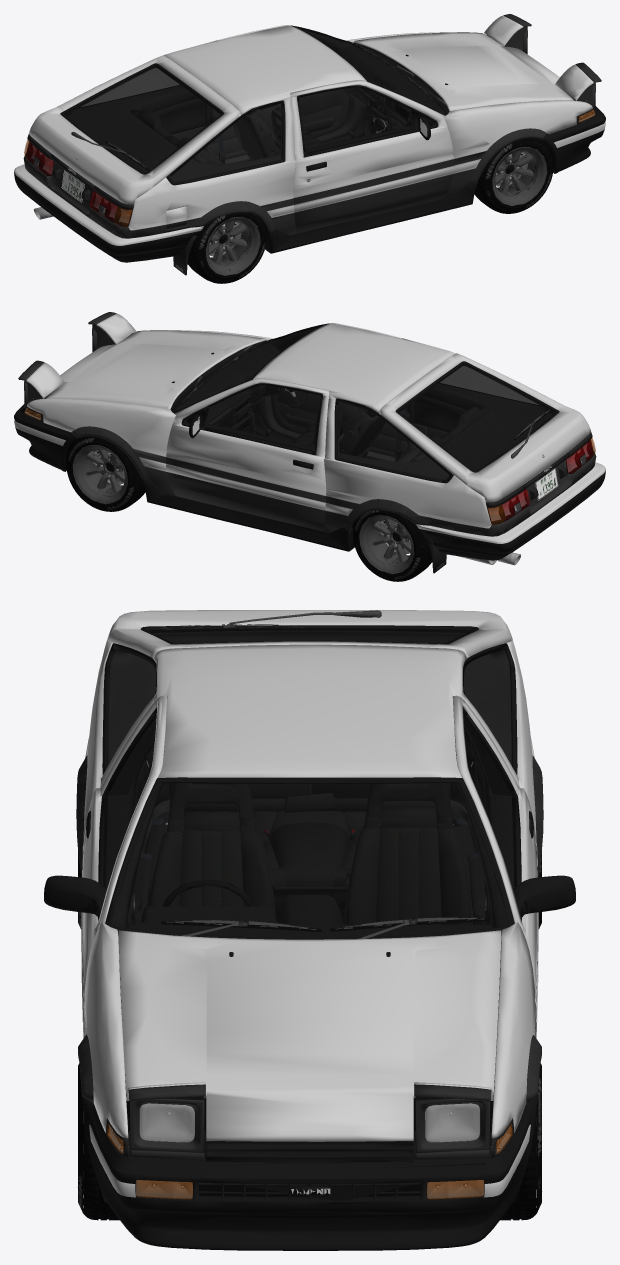
The model's file is veh-toyota-ae86.glb.
3 views of the same model, one above another, from view 1: azimuth 30°, elevation 25°; view 2: azimuth 150°, elevation 25°; view 3: azimuth 270°, elevation 25° (orthographic). The views are drawn at different scales.
Parts seen in each view (by area): view 1: CarBody_Primary_0, CarBody_Windows_0, CarBody_Trim1_0, Interior_InteriorPlastic_0, CarBody_Secondary_0, Interior_InteriorPlastic2_0, Interior_Interior_0, RR_Wheel_RimMaterial_0, FR_Wheel_RimMaterial_0, CarBody_Trim2_0, FR_Wheel_TireMaterial_0, RR_Wheel_TireMaterial_0 (+7 smaller); view 2: CarBody_Primary_0, CarBody_Windows_0, CarBody_Trim1_0, Interior_InteriorPlastic_0, CarBody_Secondary_0, Interior_InteriorPlastic2_0, Interior_Interior_0, RL_Wheel_RimMaterial_0, FL_Wheel_RimMaterial_0, CarBody_Trim2_0, FL_Wheel_TireMaterial_0, RL_Wheel_TireMaterial_0 (+6 smaller); view 3: CarBody_Primary_0, CarBody_Windows_0, CarBody_Trim1_0, Interior_Interior_0, Interior_InteriorPlastic_0, Headlights_Trim2_0, CarBody_Trim2_0, Headlights_Reflector_0, Headlights_LampCovers_0, CarBody_Secondary_0, Interior_InteriorPlastic2_0, CarBody_Shadow_0 (+4 smaller).
Part boxes in pixels (bbox=[...]): CarBody_Primary_0: bbox=[14, 25, 605, 245]; CarBody_Windows_0: bbox=[64, 27, 446, 181]; CarBody_Trim1_0: bbox=[14, 25, 605, 262]; Interior_InteriorPlastic_0: bbox=[64, 30, 445, 181]; CarBody_Secondary_0: bbox=[23, 128, 548, 238]; Interior_InteriorPlastic2_0: bbox=[172, 87, 401, 172]; Interior_Interior_0: bbox=[130, 97, 408, 181]; RR_Wheel_RimMaterial_0: bbox=[202, 217, 260, 275]; FR_Wheel_RimMaterial_0: bbox=[492, 147, 547, 205]; CarBody_Trim2_0: bbox=[27, 43, 595, 275]; FR_Wheel_TireMaterial_0: bbox=[474, 138, 553, 213]; RR_Wheel_TireMaterial_0: bbox=[187, 212, 267, 283]; CarBody_Primary_0: bbox=[14, 323, 605, 543]; CarBody_Windows_0: bbox=[173, 325, 555, 479]; CarBody_Trim1_0: bbox=[14, 323, 605, 560]; Interior_InteriorPlastic_0: bbox=[175, 328, 555, 479]; CarBody_Secondary_0: bbox=[71, 426, 596, 536]; Interior_InteriorPlastic2_0: bbox=[206, 390, 447, 469]; Interior_Interior_0: bbox=[234, 395, 489, 462]; RL_Wheel_RimMaterial_0: bbox=[359, 515, 414, 574]; FL_Wheel_RimMaterial_0: bbox=[72, 445, 127, 504]; CarBody_Trim2_0: bbox=[24, 345, 592, 573]; FL_Wheel_TireMaterial_0: bbox=[66, 436, 145, 511]; RL_Wheel_TireMaterial_0: bbox=[352, 510, 432, 581]; CarBody_Primary_0: bbox=[81, 610, 538, 1197]; CarBody_Windows_0: bbox=[103, 628, 516, 938]; CarBody_Trim1_0: bbox=[44, 625, 575, 1250]; Interior_Interior_0: bbox=[128, 742, 491, 1100]; Interior_InteriorPlastic_0: bbox=[105, 630, 514, 1002]; Headlights_Trim2_0: bbox=[128, 1084, 491, 1160]; CarBody_Trim2_0: bbox=[85, 610, 530, 1202]; Headlights_Reflector_0: bbox=[139, 1103, 480, 1141]; Headlights_LampCovers_0: bbox=[140, 1103, 479, 1141]; CarBody_Secondary_0: bbox=[76, 756, 543, 1102]; Interior_InteriorPlastic2_0: bbox=[108, 717, 511, 1026]; CarBody_Shadow_0: bbox=[126, 1101, 493, 1200].
Bounding box in the file's own units: 421 × 127 × 192.
Materials: 21 (12 with a texture image).
